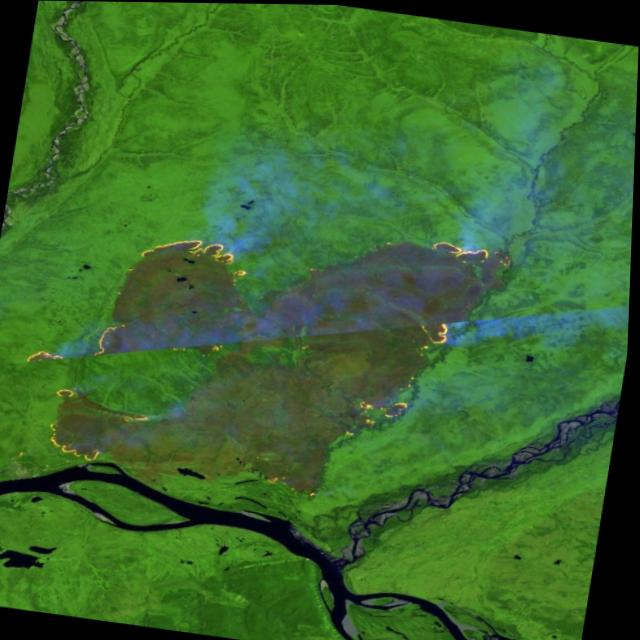fire: (0, 185, 526, 526)
